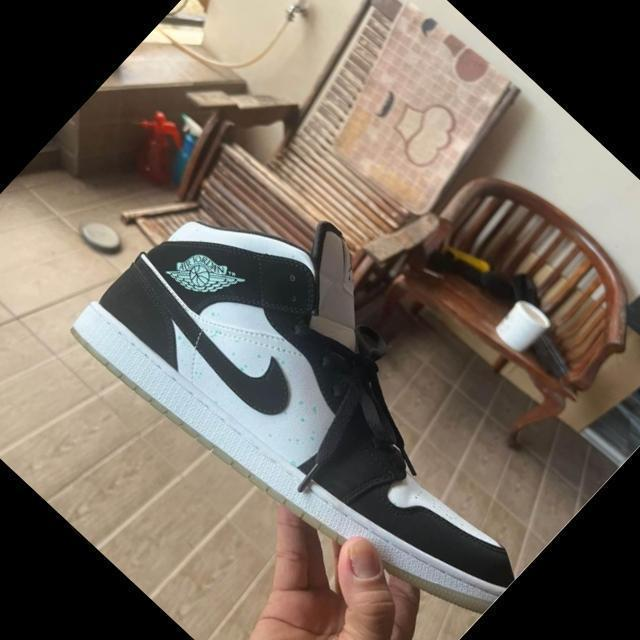nike fake jordan 1: (61, 133, 609, 640)
